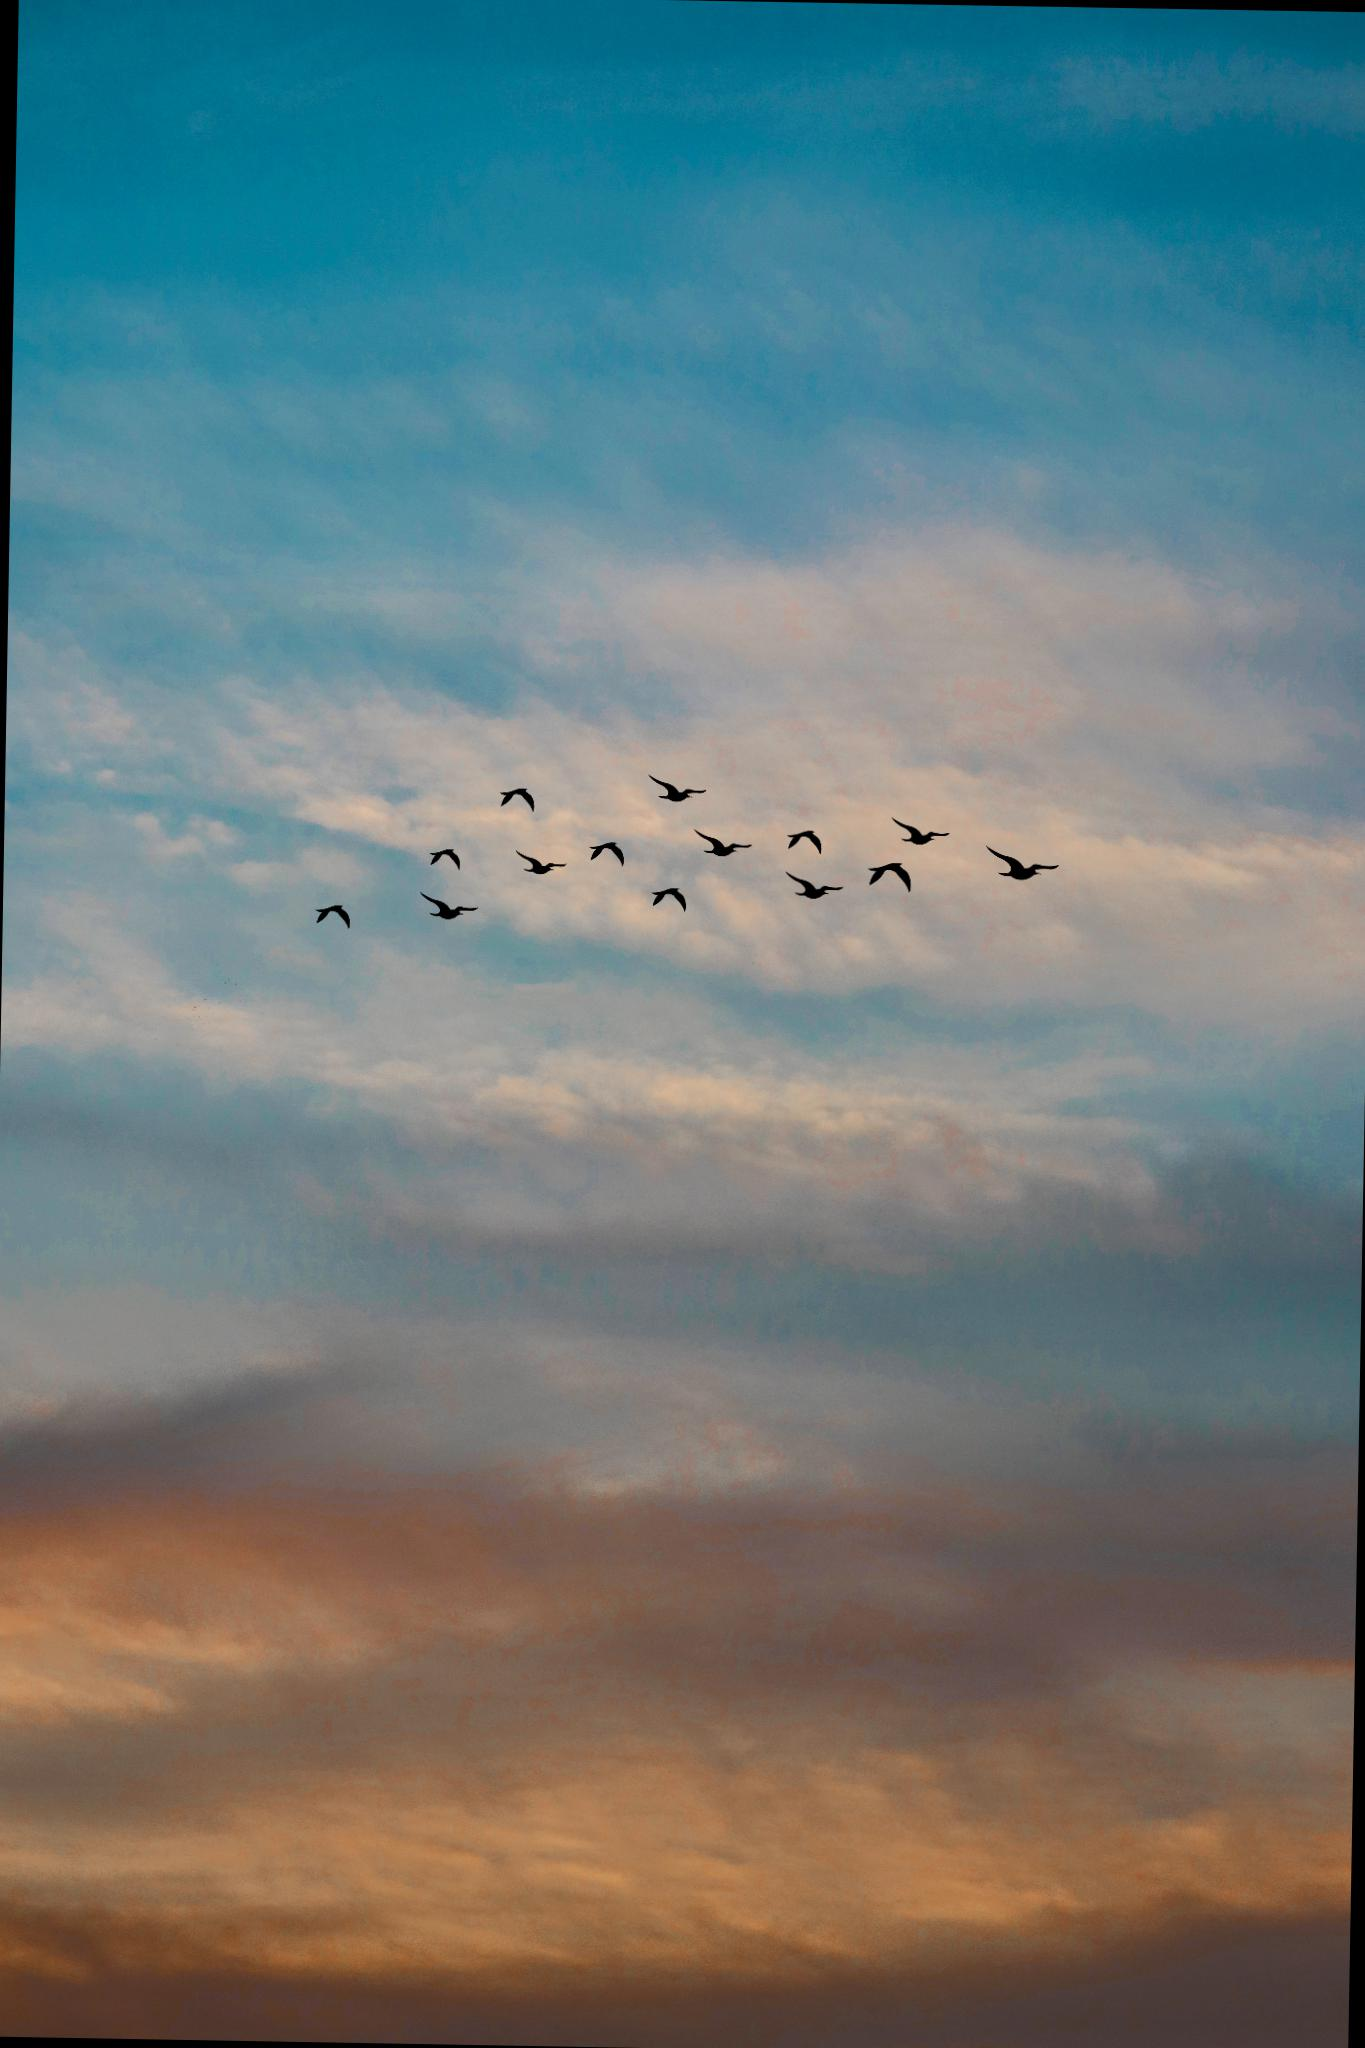bird: (288, 886, 370, 955), (980, 841, 1066, 889), (682, 818, 759, 866), (637, 763, 713, 809), (777, 863, 847, 909), (410, 885, 481, 924), (885, 810, 954, 850), (506, 842, 571, 880), (483, 778, 542, 819), (858, 856, 917, 894), (778, 819, 829, 859), (641, 877, 689, 918), (416, 841, 468, 874)
